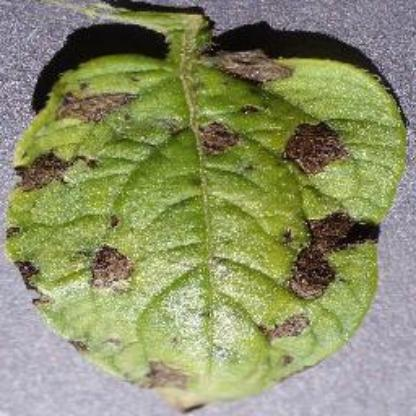Early-Blight: (11, 5, 407, 411)
